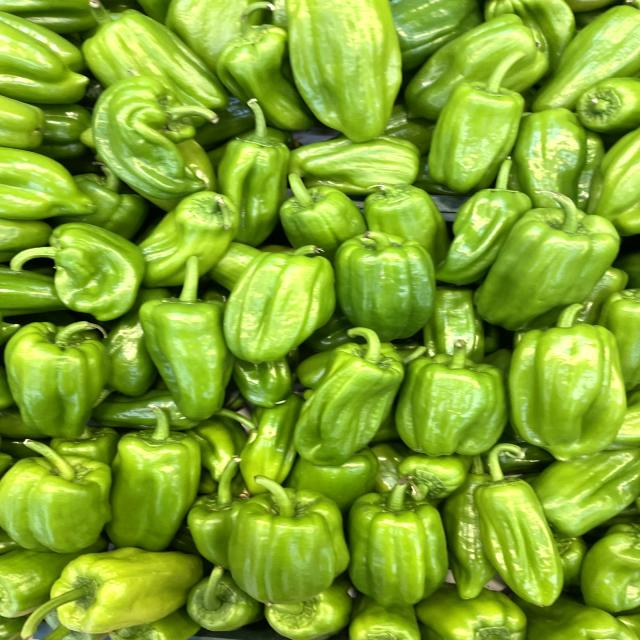bell pepper: (472, 181, 631, 334), (123, 258, 248, 421), (219, 466, 349, 603), (215, 235, 345, 364), (343, 461, 456, 609), (0, 430, 124, 558), (4, 309, 123, 442), (331, 228, 446, 346)
